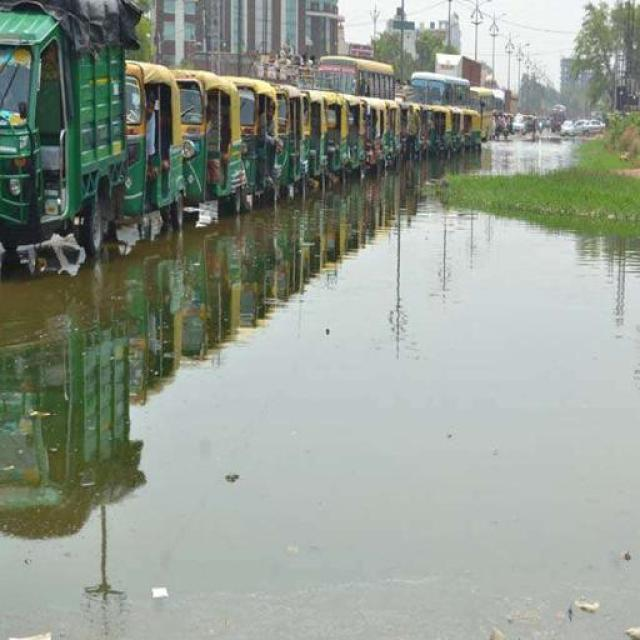puddle: (8, 284, 640, 640), (189, 223, 635, 305), (332, 169, 454, 234)
